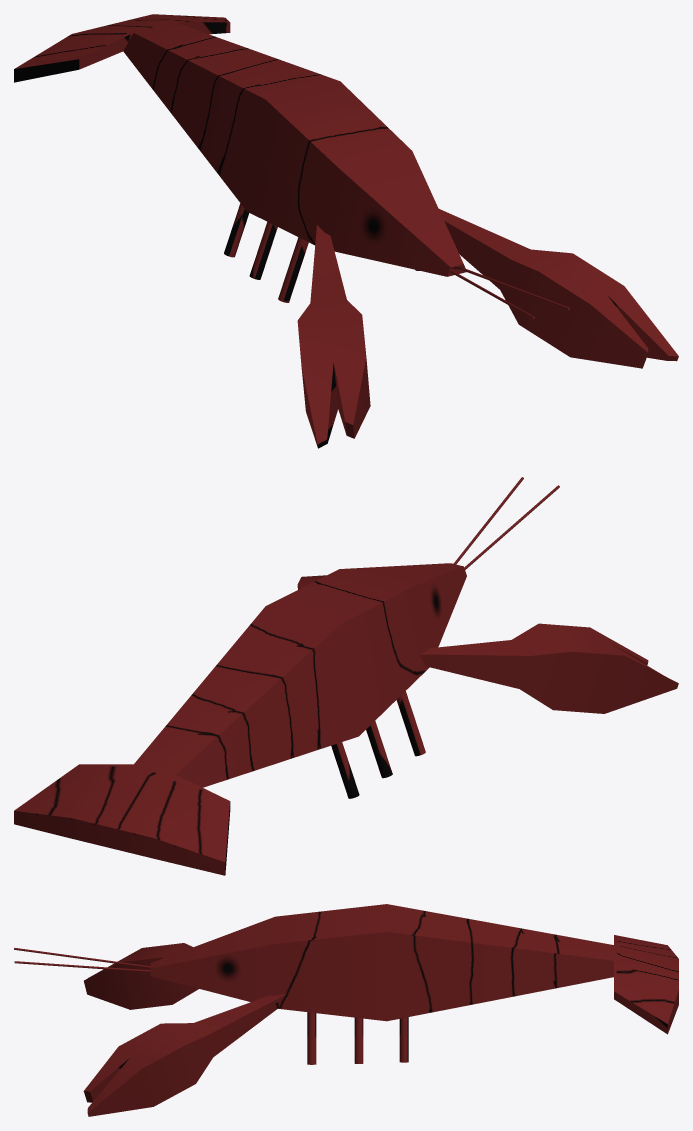
File: Crawfish.fbx
3 views of the same model, one above another, from view 1: azimuth 30°, elevation 25°; view 2: azimuth 150°, elevation 25°; view 3: azimuth 270°, elevation 25° (orthographic). The views are drawn at different scales.
Parts seen in each view (by area): view 1: pCylinder9; view 2: pCylinder9; view 3: pCylinder9.
Boxes of the visible parts, x1,y1,x2,y2 form: pCylinder9: (14,14,678,448); pCylinder9: (14,477,678,875); pCylinder9: (14,904,678,1116).
Size of the model in its own units: 211 by 96.96 by 439.
